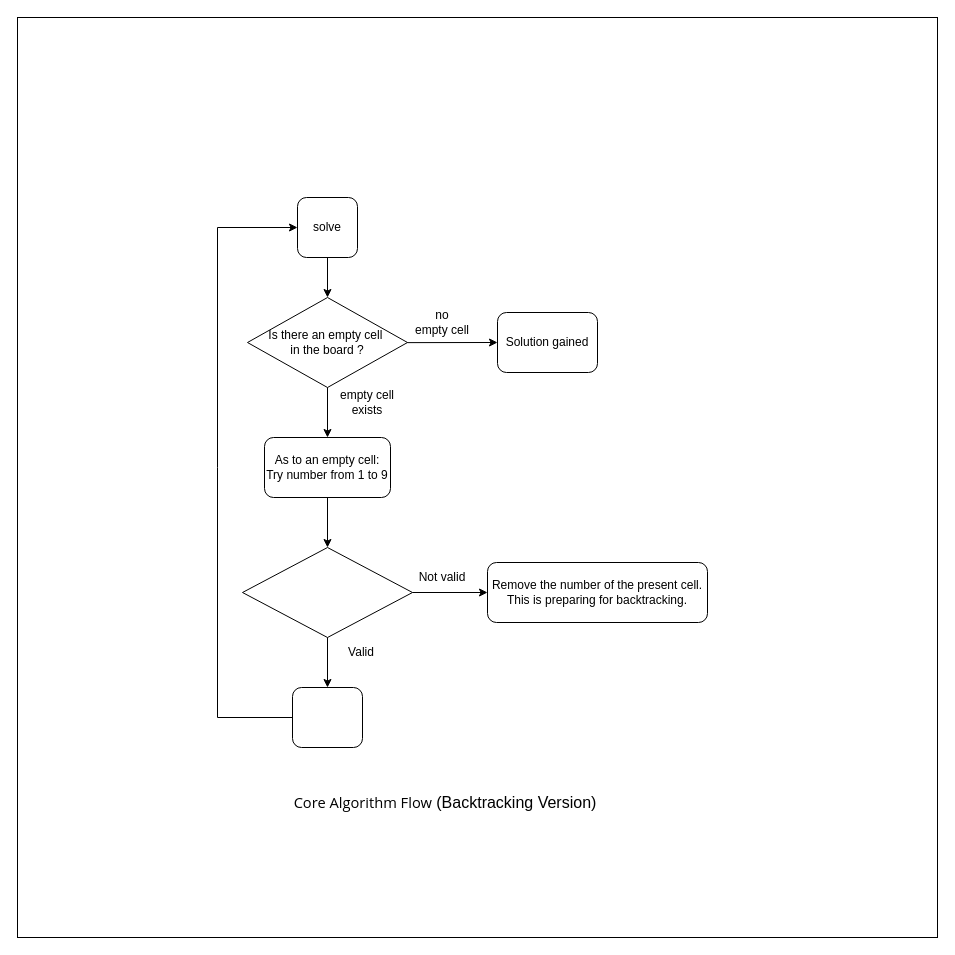
The diagram is 955 pixels wide and 955 high, and some of its shapes have lost their labels. The shapes that lost their labels are listed below. From the top down, each one's box as (x1, y1, x2, y2) in pixels, then its label:
(242, 546, 412, 638): Check for each number
(292, 686, 362, 748): Recursion
